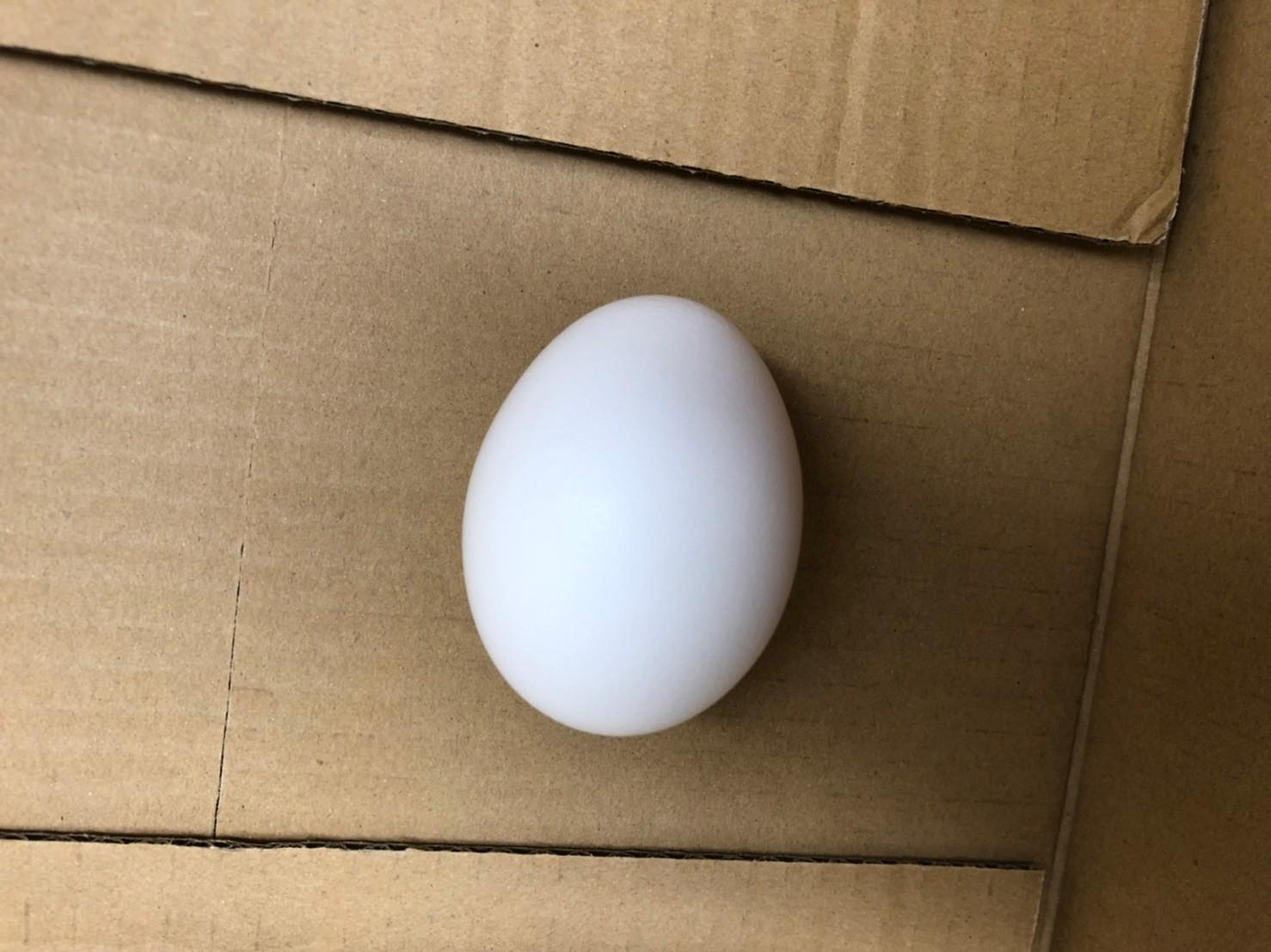egg: (454, 289, 810, 740)
